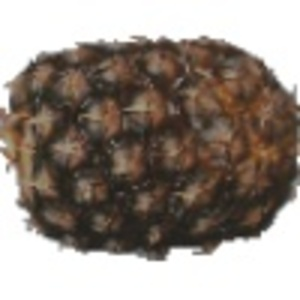abacaxi: (4, 20, 293, 271)
